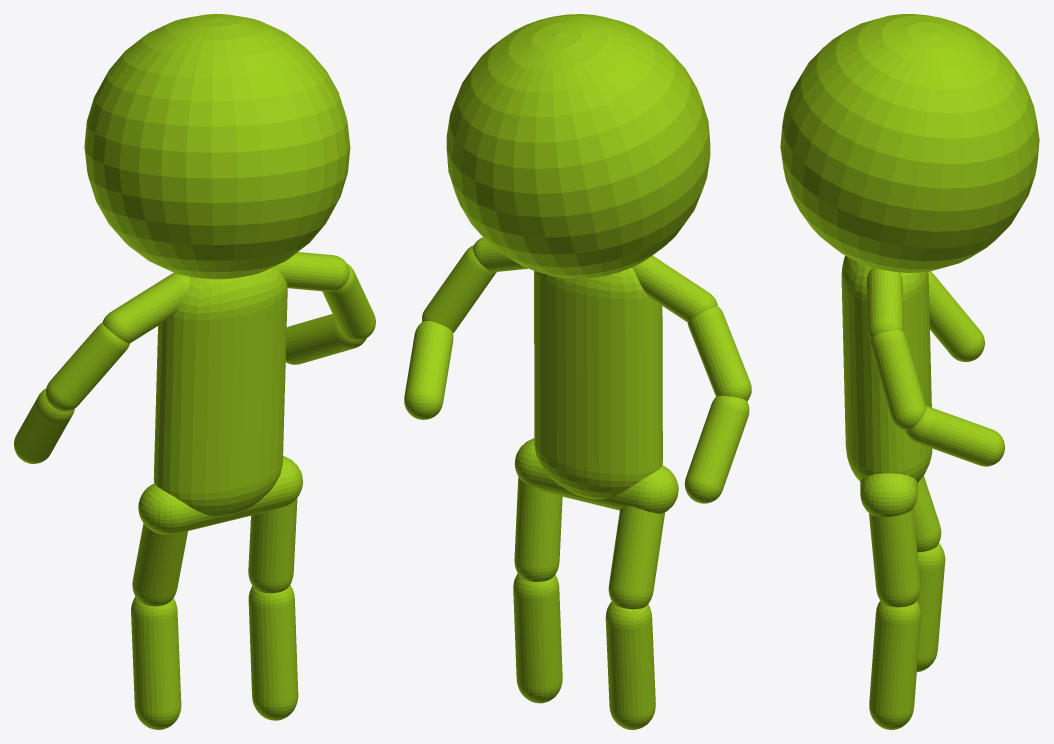
The model's file is Stickman_000046.obj.
3 renders of one model, left to right at view 1: azimuth 30°, elevation 25°; view 2: azimuth 150°, elevation 25°; view 3: azimuth 270°, elevation 25°, orthographic. The views are drawn at different scales.
Visible parts, largest first — view 1: Head_Sphere.001, Body_Roundcube.002, LowerLegLeft_Roundcube.013, LowerLegRight_Roundcube.011, Hip_Roundcube.005, UpperLegLeft_Roundcube.012, UpperArmRight_Roundcube.015, UpperLegRight_Roundcube.010, ShoulderRight_Roundcube.014, LowerArmRight_Roundcube.016, LowerArmLeft_Roundcube.019, ShoulderLeft_Roundcube.017 (+1 smaller); view 2: Head_Sphere.001, Body_Roundcube.002, LowerLegLeft_Roundcube.013, LowerLegRight_Roundcube.011, UpperLegRight_Roundcube.010, LowerArmRight_Roundcube.016, UpperLegLeft_Roundcube.012, LowerArmLeft_Roundcube.019, Hip_Roundcube.005, UpperArmRight_Roundcube.015, UpperArmLeft_Roundcube.018, ShoulderRight_Roundcube.014 (+1 smaller); view 3: Head_Sphere.001, Body_Roundcube.002, LowerLegLeft_Roundcube.013, UpperLegLeft_Roundcube.012, UpperArmLeft_Roundcube.018, LowerArmLeft_Roundcube.019, LowerArmRight_Roundcube.016, LowerLegRight_Roundcube.011, ShoulderLeft_Roundcube.017, Hip_Roundcube.005, UpperLegRight_Roundcube.010.
Boxes of the visible parts, bbox=[...] form: Head_Sphere.001: bbox=[84, 14, 350, 279]; Body_Roundcube.002: bbox=[153, 266, 287, 516]; LowerLegLeft_Roundcube.013: bbox=[248, 585, 298, 720]; LowerLegRight_Roundcube.011: bbox=[131, 597, 181, 729]; Hip_Roundcube.005: bbox=[138, 456, 302, 534]; UpperLegLeft_Roundcube.012: bbox=[248, 498, 297, 593]; UpperArmRight_Roundcube.015: bbox=[45, 322, 129, 411]; UpperLegRight_Roundcube.010: bbox=[132, 523, 187, 606]; ShoulderRight_Roundcube.014: bbox=[102, 273, 189, 343]; LowerArmRight_Roundcube.016: bbox=[14, 388, 74, 463]; LowerArmLeft_Roundcube.019: bbox=[285, 314, 366, 364]; ShoulderLeft_Roundcube.017: bbox=[275, 252, 349, 291]; Head_Sphere.001: bbox=[446, 14, 710, 278]; Body_Roundcube.002: bbox=[534, 267, 662, 499]; LowerLegLeft_Roundcube.013: bbox=[513, 573, 562, 703]; LowerLegRight_Roundcube.011: bbox=[605, 601, 655, 729]; UpperLegRight_Roundcube.010: bbox=[608, 506, 664, 609]; LowerArmRight_Roundcube.016: bbox=[684, 395, 749, 503]; UpperLegLeft_Roundcube.012: bbox=[514, 477, 562, 581]; LowerArmLeft_Roundcube.019: bbox=[404, 321, 453, 419]; Hip_Roundcube.005: bbox=[514, 438, 678, 513]; UpperArmRight_Roundcube.015: bbox=[687, 306, 751, 401]; UpperArmLeft_Roundcube.018: bbox=[422, 245, 496, 332]; ShoulderRight_Roundcube.014: bbox=[632, 255, 717, 322]; Head_Sphere.001: bbox=[780, 14, 1039, 272]; Body_Roundcube.002: bbox=[841, 255, 932, 482]; LowerLegLeft_Roundcube.013: bbox=[869, 600, 920, 729]; UpperLegLeft_Roundcube.012: bbox=[869, 509, 920, 607]; UpperArmLeft_Roundcube.018: bbox=[870, 330, 926, 430]; LowerArmLeft_Roundcube.019: bbox=[905, 406, 1004, 466]; LowerArmRight_Roundcube.016: bbox=[928, 271, 984, 361]; LowerLegRight_Roundcube.011: bbox=[917, 543, 945, 672]; ShoulderLeft_Roundcube.017: bbox=[866, 267, 903, 339]; Hip_Roundcube.005: bbox=[860, 473, 917, 516]; UpperLegRight_Roundcube.010: bbox=[913, 475, 941, 552].
Bounding box in the file's own units: 5.83 × 11.78 × 4.07.
